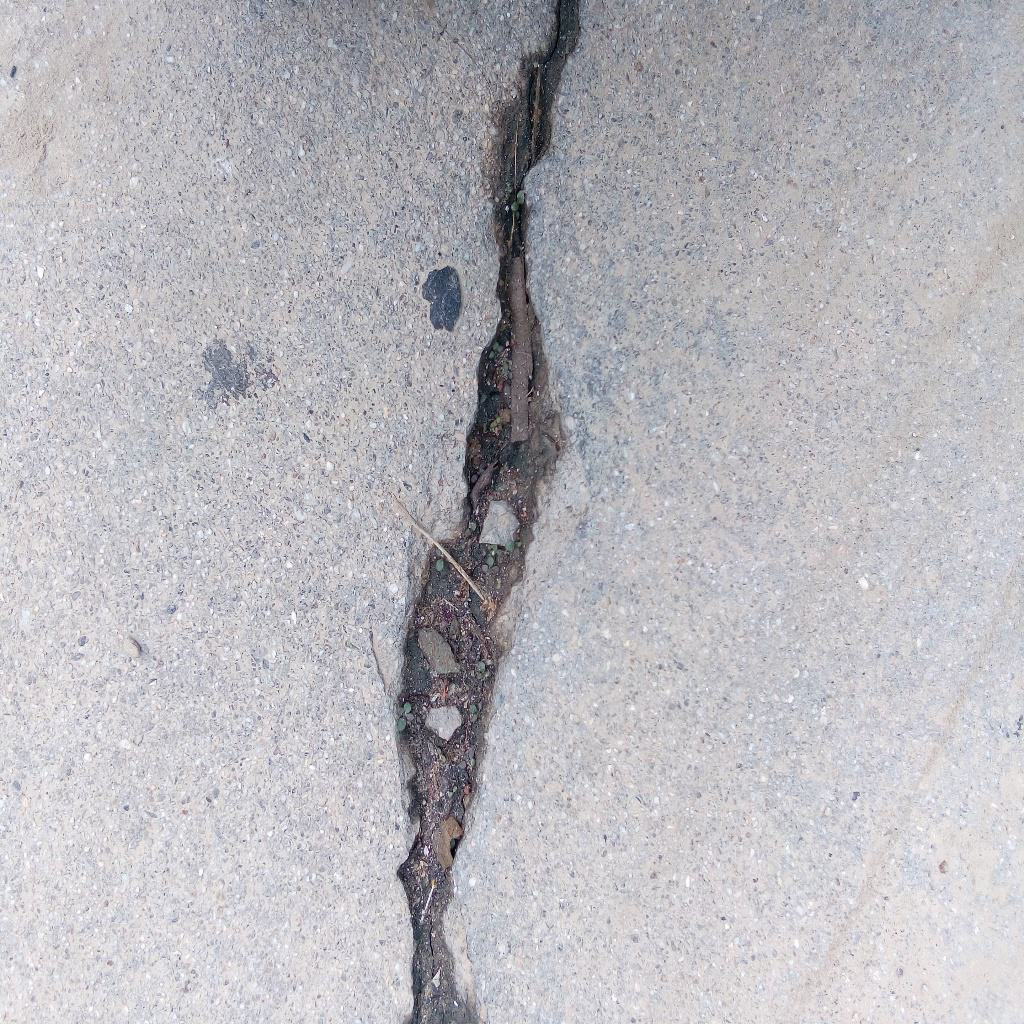Crack: (388, 1, 582, 1024)
